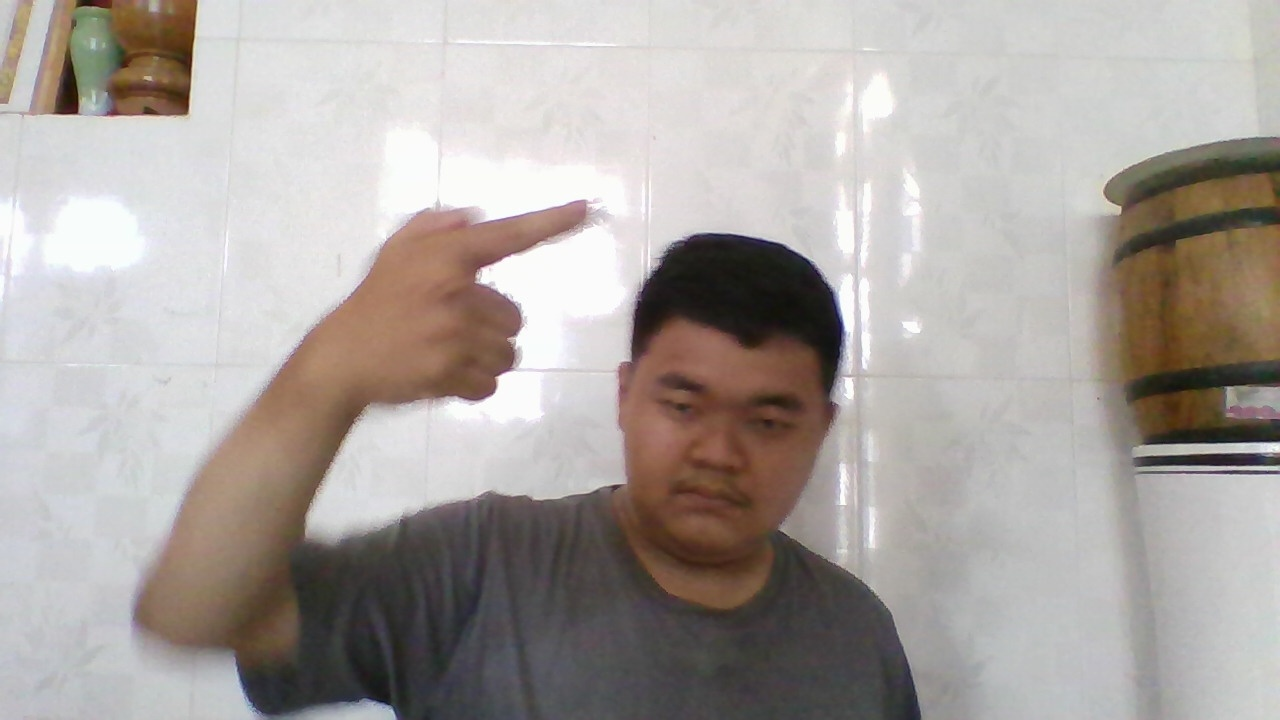G: (314, 206, 576, 404)
